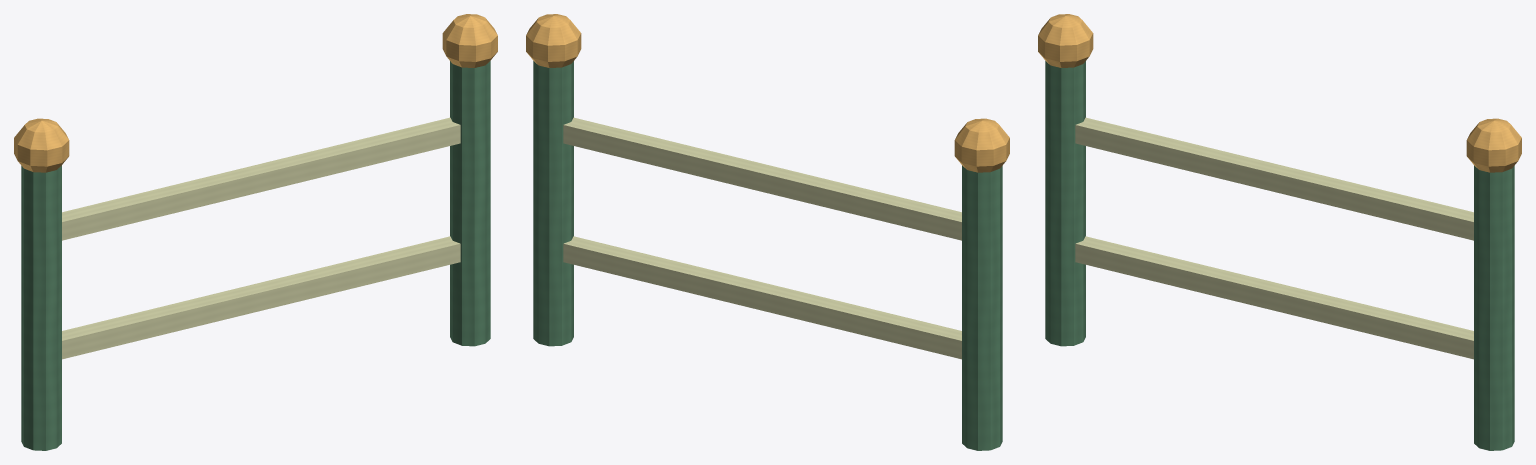
Rendered from atlas100-solarpunk-util04.glb.
3 views of the same model, side by side, from view 1: azimuth 30°, elevation 25°; view 2: azimuth 150°, elevation 25°; view 3: azimuth 330°, elevation 25° (orthographic).
Visible parts, largest first — view 1: atlas100-solarpunk-util04:part-004, atlas100-solarpunk-util04:part-005, atlas100-solarpunk-util04:part-000, atlas100-solarpunk-util04:part-002, atlas100-solarpunk-util04:part-001, atlas100-solarpunk-util04:part-003; view 2: atlas100-solarpunk-util04:part-004, atlas100-solarpunk-util04:part-005, atlas100-solarpunk-util04:part-000, atlas100-solarpunk-util04:part-002, atlas100-solarpunk-util04:part-001, atlas100-solarpunk-util04:part-003; view 3: atlas100-solarpunk-util04:part-004, atlas100-solarpunk-util04:part-005, atlas100-solarpunk-util04:part-002, atlas100-solarpunk-util04:part-000, atlas100-solarpunk-util04:part-003, atlas100-solarpunk-util04:part-001.
Boxes of the visible parts, x1,y1,x2,y2 form: atlas100-solarpunk-util04:part-004: [62, 236, 460, 359]; atlas100-solarpunk-util04:part-005: [62, 117, 460, 240]; atlas100-solarpunk-util04:part-000: [21, 165, 61, 450]; atlas100-solarpunk-util04:part-002: [450, 61, 490, 346]; atlas100-solarpunk-util04:part-001: [14, 118, 69, 172]; atlas100-solarpunk-util04:part-003: [442, 14, 497, 67]; atlas100-solarpunk-util04:part-004: [563, 236, 961, 359]; atlas100-solarpunk-util04:part-005: [563, 117, 961, 240]; atlas100-solarpunk-util04:part-000: [962, 165, 1002, 450]; atlas100-solarpunk-util04:part-002: [533, 61, 573, 346]; atlas100-solarpunk-util04:part-001: [954, 118, 1009, 172]; atlas100-solarpunk-util04:part-003: [526, 14, 581, 67]; atlas100-solarpunk-util04:part-004: [1075, 236, 1473, 359]; atlas100-solarpunk-util04:part-005: [1075, 117, 1473, 240]; atlas100-solarpunk-util04:part-002: [1474, 165, 1514, 450]; atlas100-solarpunk-util04:part-000: [1045, 61, 1085, 346]; atlas100-solarpunk-util04:part-003: [1466, 118, 1521, 172]; atlas100-solarpunk-util04:part-001: [1038, 14, 1093, 67].
Bounding box in the file's own units: 2.02 × 1.3 × 0.1934.
3 materials, 3 textured.
